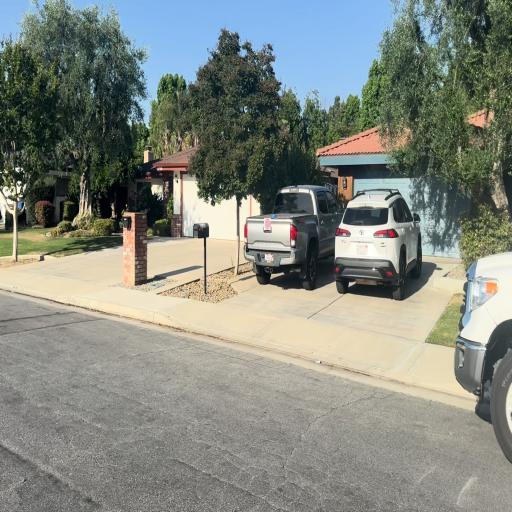bullseye: (264, 218, 271, 231)
